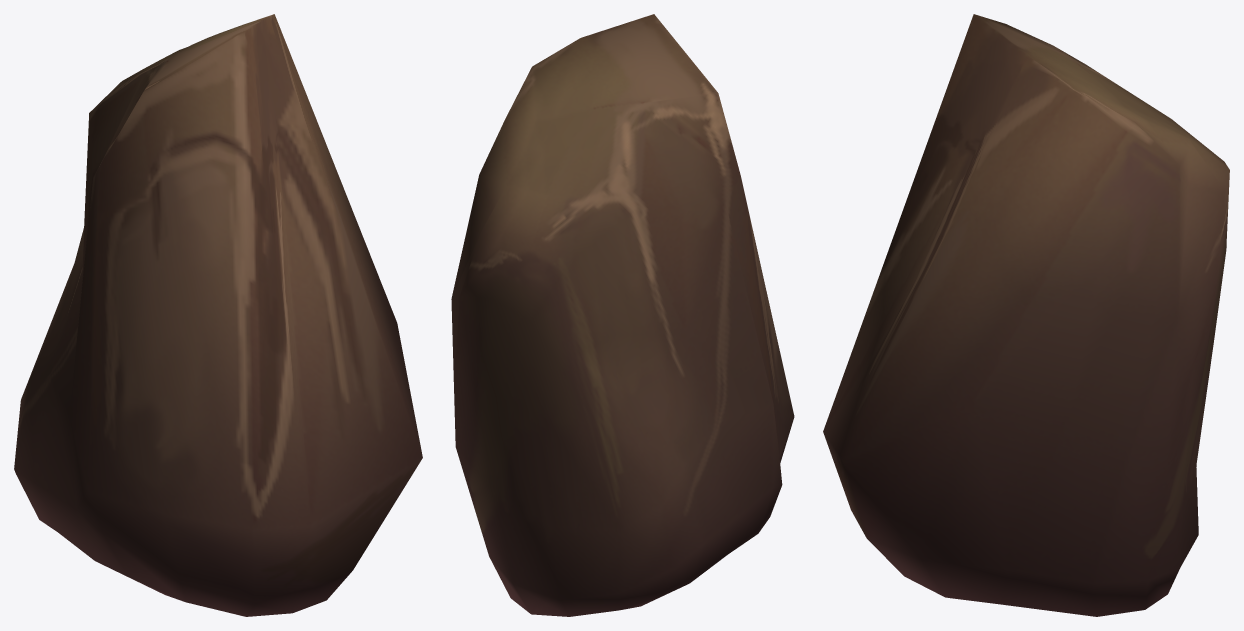
File: Rock005.glb
3 renders of one model, left to right at view 1: azimuth 30°, elevation 25°; view 2: azimuth 150°, elevation 25°; view 3: azimuth 270°, elevation 25°, orthographic. The views are drawn at different scales.
Parts seen in each view (by area): view 1: Cube.003; view 2: Cube.003; view 3: Cube.003.
Part boxes in pixels (<box>): Cube.003: <box>14,14,422,616</box>; Cube.003: <box>451,14,794,616</box>; Cube.003: <box>823,14,1229,616</box>.
Size of the model in its own units: 0.4216 by 0.783 by 0.5023.
Materials: 1 (1 with a texture image).
